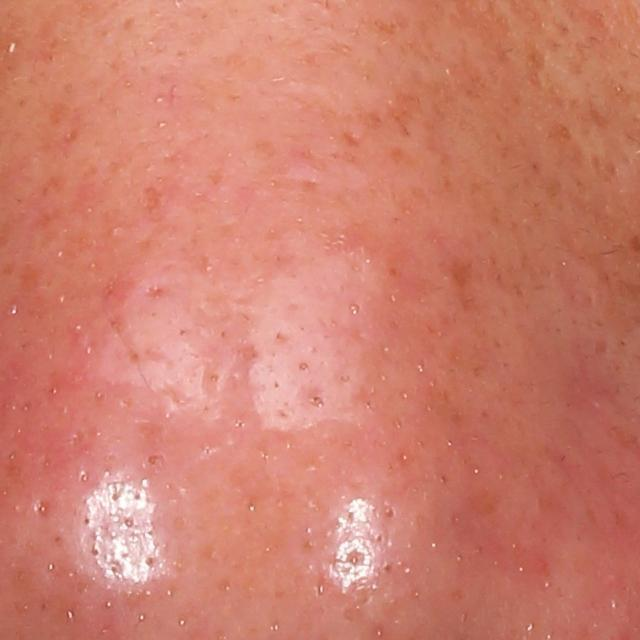melasma: (435, 243, 482, 307), (379, 92, 422, 141), (522, 37, 548, 85)
